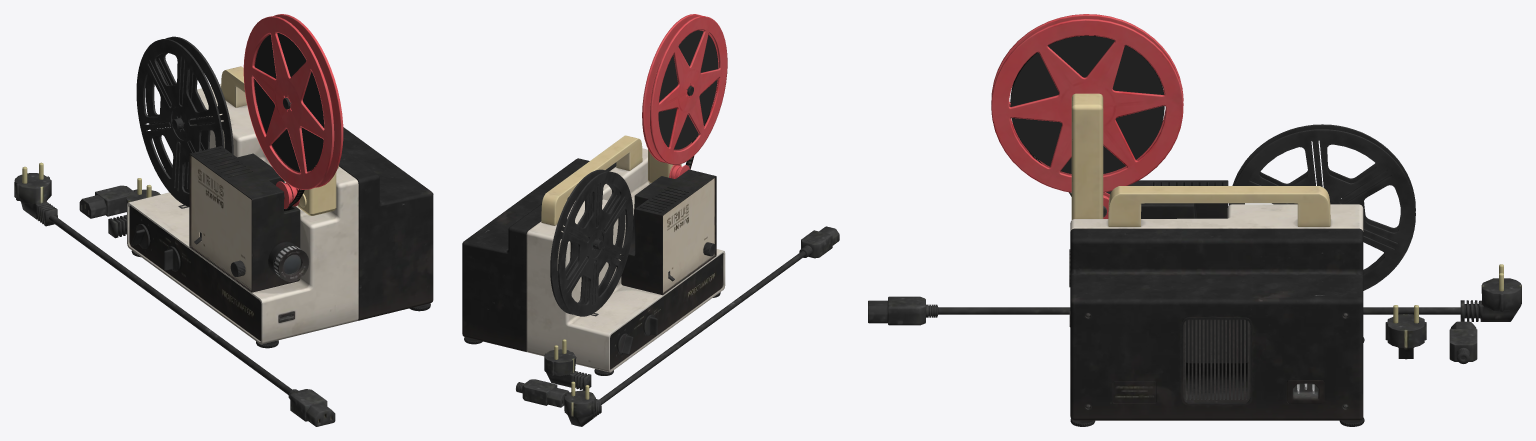
Rendered from film-projector.glb.
3 views of the same model, side by side, from view 1: azimuth 30°, elevation 25°; view 2: azimuth 150°, elevation 25°; view 3: azimuth 270°, elevation 25° (orthographic). The views are drawn at different scales.
Visible parts, largest first — view 1: filmstrip_projector_8mm, filmstrip_projector_8mm_spool_feed, filmstrip_projector_8mm_spool_takeup, filmstrip_projector_8mm_cable, filmstrip_projector_8mm_01_film_side, filmstrip_projector_8mm_connector, filmstrip_projector_8mm_spool_arm, filmstrip_projector_8mm_schuko; view 2: filmstrip_projector_8mm, filmstrip_projector_8mm_spool_takeup, filmstrip_projector_8mm_spool_feed, filmstrip_projector_8mm_cable, filmstrip_projector_8mm_01_film_side, filmstrip_projector_8mm_schuko, filmstrip_projector_8mm_connector, filmstrip_projector_8mm_spool_arm; view 3: filmstrip_projector_8mm, filmstrip_projector_8mm_spool_feed, filmstrip_projector_8mm_spool_takeup, filmstrip_projector_8mm_01_film_side, filmstrip_projector_8mm_cable, filmstrip_projector_8mm_spool_arm, filmstrip_projector_8mm_schuko, filmstrip_projector_8mm_connector.
Part boxes in pixels (<box>): filmstrip_projector_8mm: <box>127,66,433,348</box>; filmstrip_projector_8mm_spool_feed: <box>243,14,343,189</box>; filmstrip_projector_8mm_spool_takeup: <box>136,36,233,206</box>; filmstrip_projector_8mm_cable: <box>14,162,335,426</box>; filmstrip_projector_8mm_01_film_side: <box>254,33,324,171</box>; filmstrip_projector_8mm_connector: <box>79,185,137,218</box>; filmstrip_projector_8mm_spool_arm: <box>297,101,336,215</box>; filmstrip_projector_8mm_schuko: <box>108,178,160,238</box>; filmstrip_projector_8mm: <box>462,135,725,375</box>; filmstrip_projector_8mm_spool_takeup: <box>550,169,633,316</box>; filmstrip_projector_8mm_spool_feed: <box>642,14,727,164</box>; filmstrip_projector_8mm_cable: <box>564,226,839,426</box>; filmstrip_projector_8mm_01_film_side: <box>658,30,718,149</box>; filmstrip_projector_8mm_schuko: <box>544,339,591,390</box>; filmstrip_projector_8mm_connector: <box>516,379,569,407</box>; filmstrip_projector_8mm_spool_arm: <box>648,149,681,182</box>; filmstrip_projector_8mm: <box>1069,180,1364,426</box>; filmstrip_projector_8mm_spool_feed: <box>991,14,1183,192</box>; filmstrip_projector_8mm_spool_takeup: <box>1229,124,1415,290</box>; filmstrip_projector_8mm_01_film_side: <box>1010,36,1164,173</box>; filmstrip_projector_8mm_cable: <box>868,264,1521,325</box>; filmstrip_projector_8mm_spool_arm: <box>1071,93,1103,219</box>; filmstrip_projector_8mm_schuko: <box>1385,305,1426,359</box>; filmstrip_projector_8mm_connector: <box>1449,321,1477,363</box>.
Bounding box in the file's own units: 0.2537 × 0.3454 × 0.6026.
Materials: 2 (2 with a texture image).
